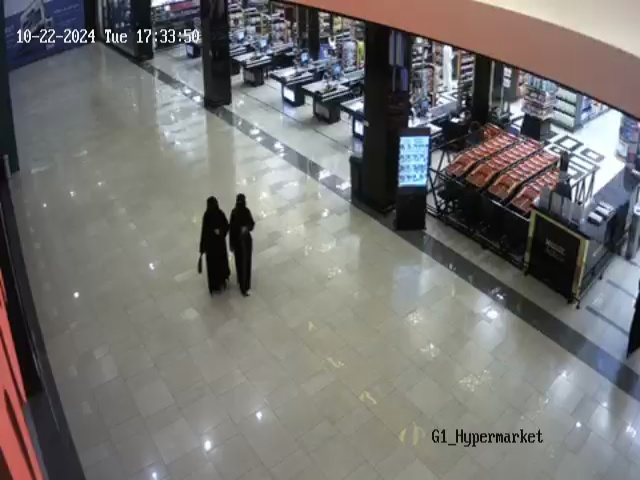female: (199, 196, 231, 296), (228, 193, 256, 297)
